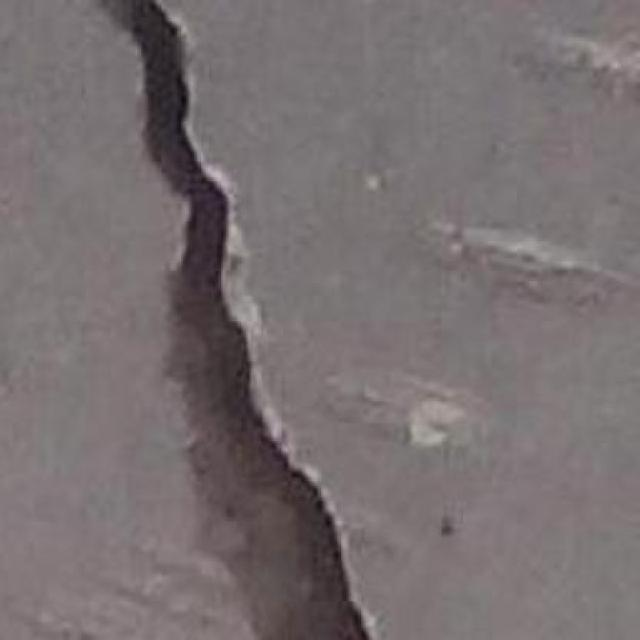Crack: (84, 0, 370, 640)
